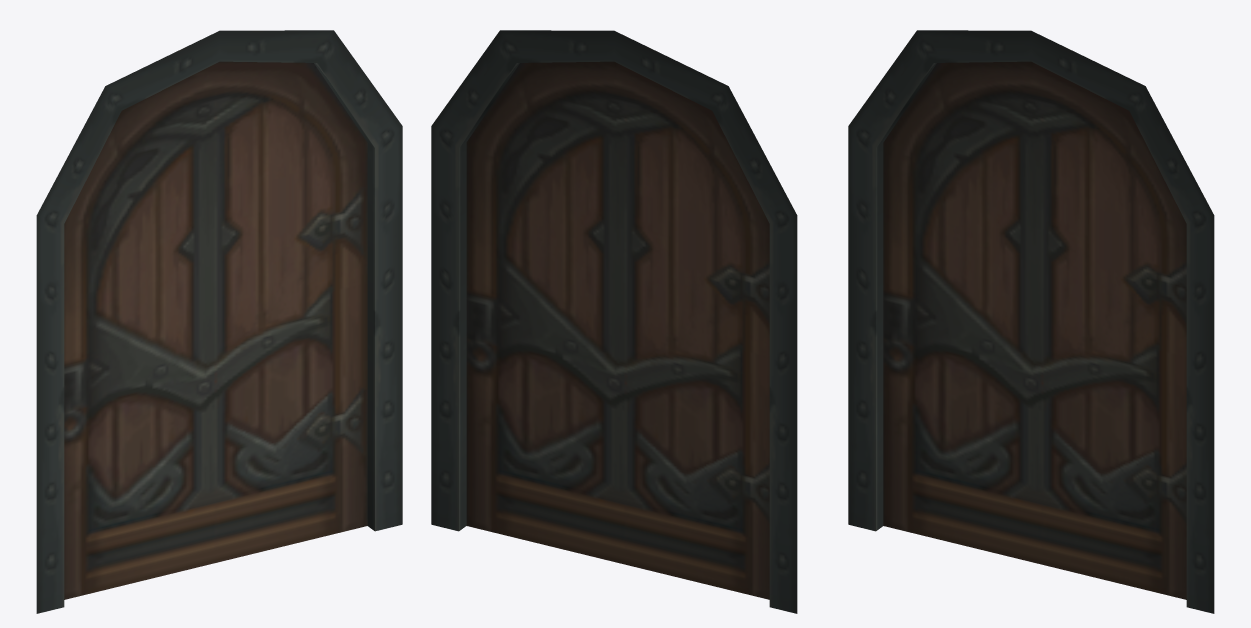
Rendered from sc_dungeon_moshenta_men_001_bandpose.FBX.
3 views of the same model, side by side, from view 1: azimuth 30°, elevation 25°; view 2: azimuth 150°, elevation 25°; view 3: azimuth 330°, elevation 25° (orthographic).
Visible parts, largest first — view 1: Dummy001, sc_dungeon_moshenta_men_001; view 2: Dummy001, sc_dungeon_moshenta_men_001; view 3: Dummy001, sc_dungeon_moshenta_men_001.
Boxes of the visible parts, bbox=[...] form: Dummy001: bbox=[64, 61, 367, 599]; sc_dungeon_moshenta_men_001: bbox=[36, 30, 402, 613]; Dummy001: bbox=[466, 61, 769, 599]; sc_dungeon_moshenta_men_001: bbox=[431, 30, 797, 613]; Dummy001: bbox=[883, 61, 1186, 599]; sc_dungeon_moshenta_men_001: bbox=[848, 30, 1214, 613].
Bounding box in the file's own units: 277 × 390 × 29.31.
